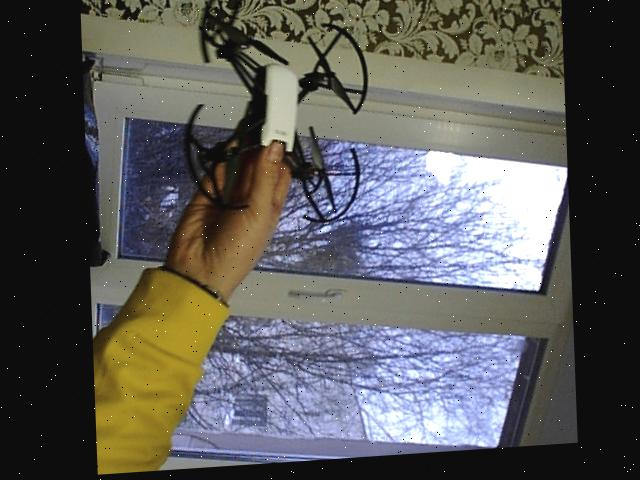drone: (173, 0, 374, 237)
